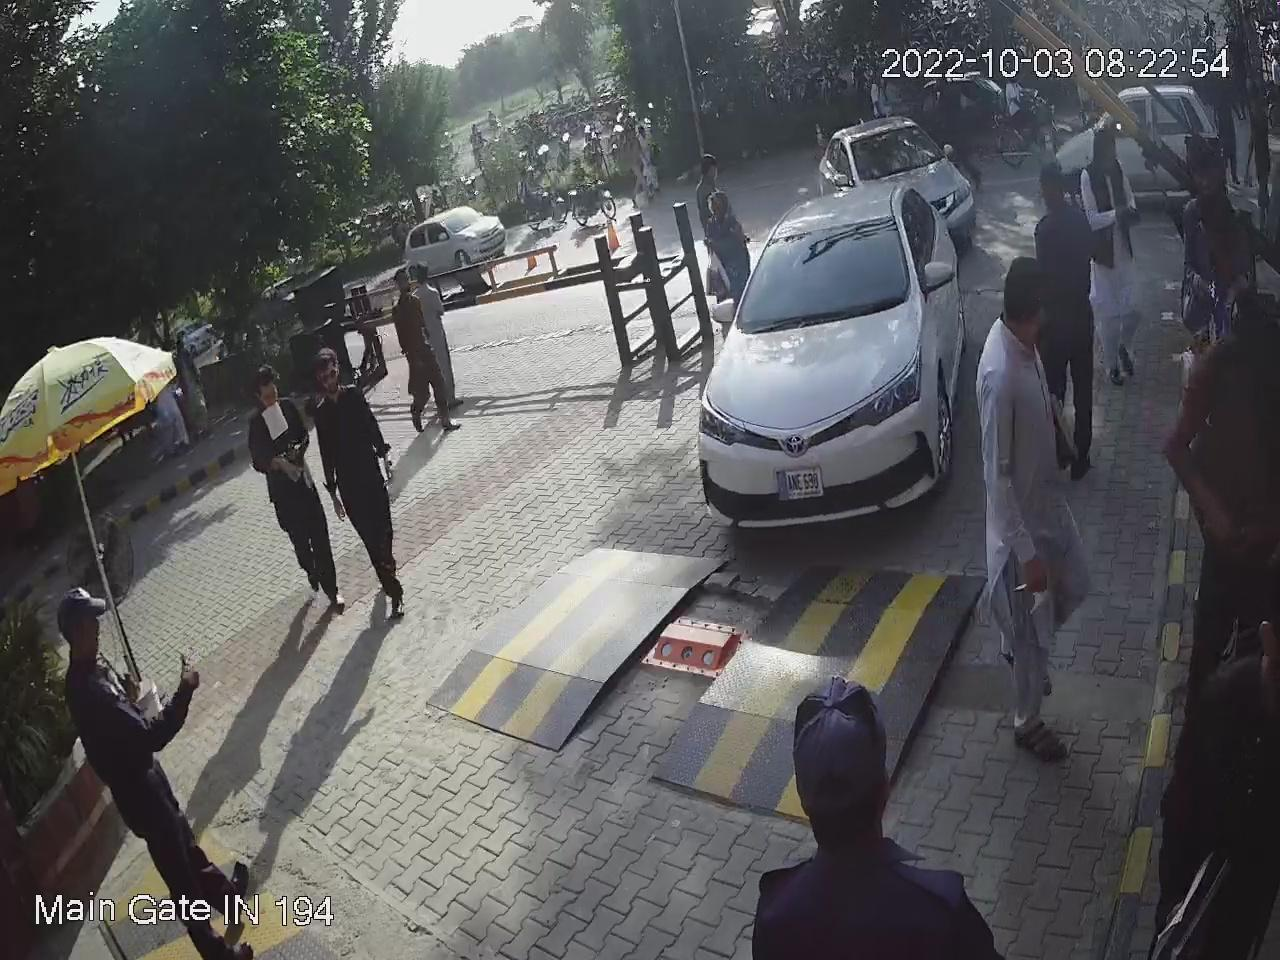windshield: (738, 205, 913, 333)
